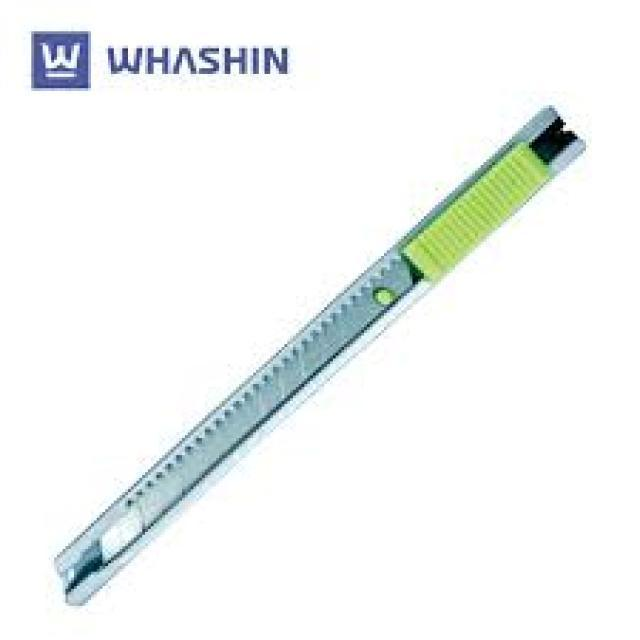cutter: (39, 96, 594, 613)
